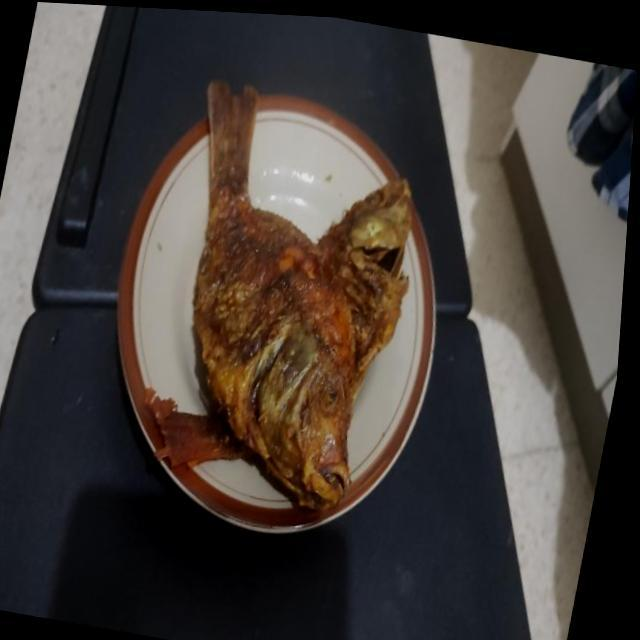ikan_mujair: (157, 178, 410, 464), (195, 81, 358, 508)
